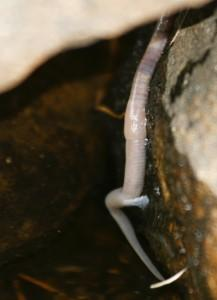earthworms: (123, 8, 177, 289)
